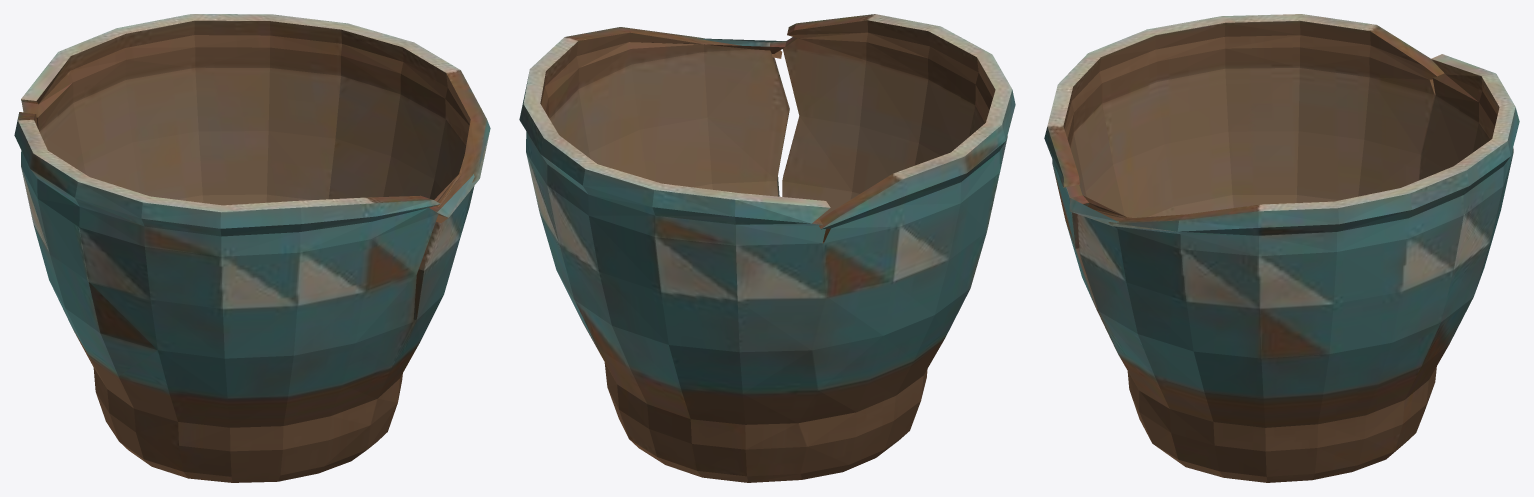
Rendered from BR33_cracked_pots_v4.glb.
3 renders of one model, left to right at view 1: azimuth 30°, elevation 25°; view 2: azimuth 150°, elevation 25°; view 3: azimuth 270°, elevation 25°, orthographic. The views are drawn at different scales.
Visible parts, largest first — view 1: Broken Glazed Planter; view 2: Broken Glazed Planter; view 3: Broken Glazed Planter.
Boxes of the visible parts, x1=… form: Broken Glazed Planter: x1=14, y1=14, x2=490, y2=482; Broken Glazed Planter: x1=519, y1=14, x2=1015, y2=482; Broken Glazed Planter: x1=1044, y1=14, x2=1519, y2=482.
Bounding box in the file's own units: 0.3989 × 0.2916 × 0.4.
Materials: 4 (4 with a texture image).
